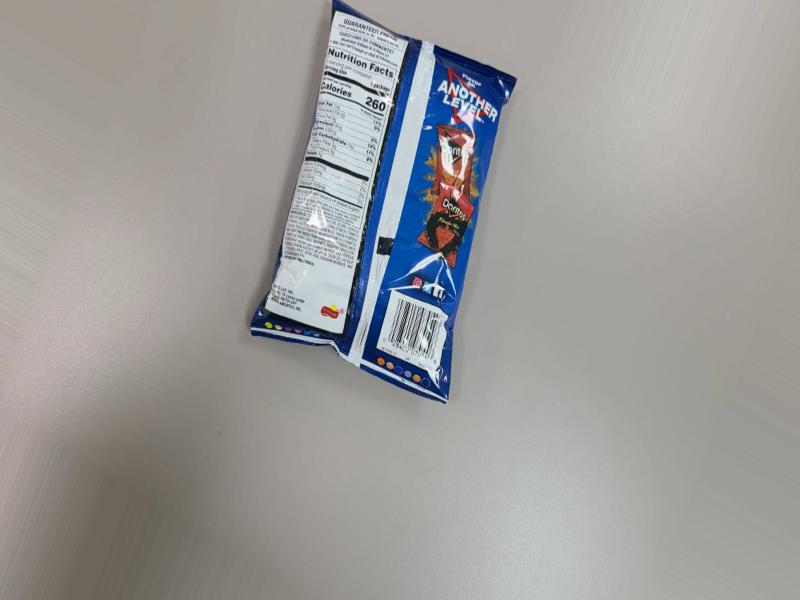doritos: (244, 1, 514, 437)
